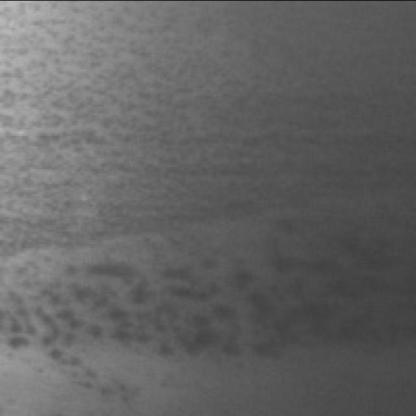pitted_surface: (12, 27, 412, 241), (10, 227, 414, 374)
